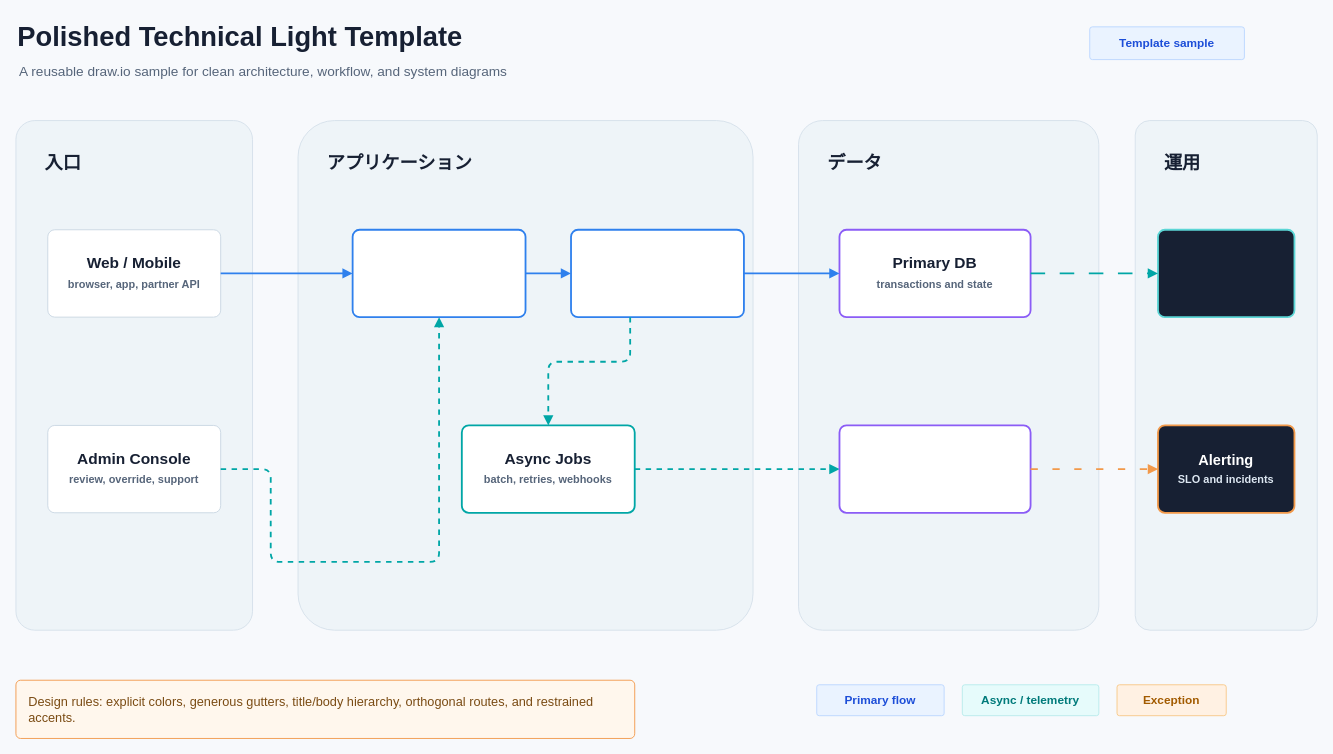
Some shapes in this 1333 by 754 pixel diagram are drawn without their labels. The shapes that lost their labels are listed below. From the top down, each one's centre as x and y in pixels, then its label:
(x=438, y=273): Edge Gateway auth, routing, rate limit
(x=657, y=273): Workflow Service orchestration and policy
(x=1226, y=273): Observability logs, metrics, traces
(x=934, y=468): Object Store files, exports, evidence
